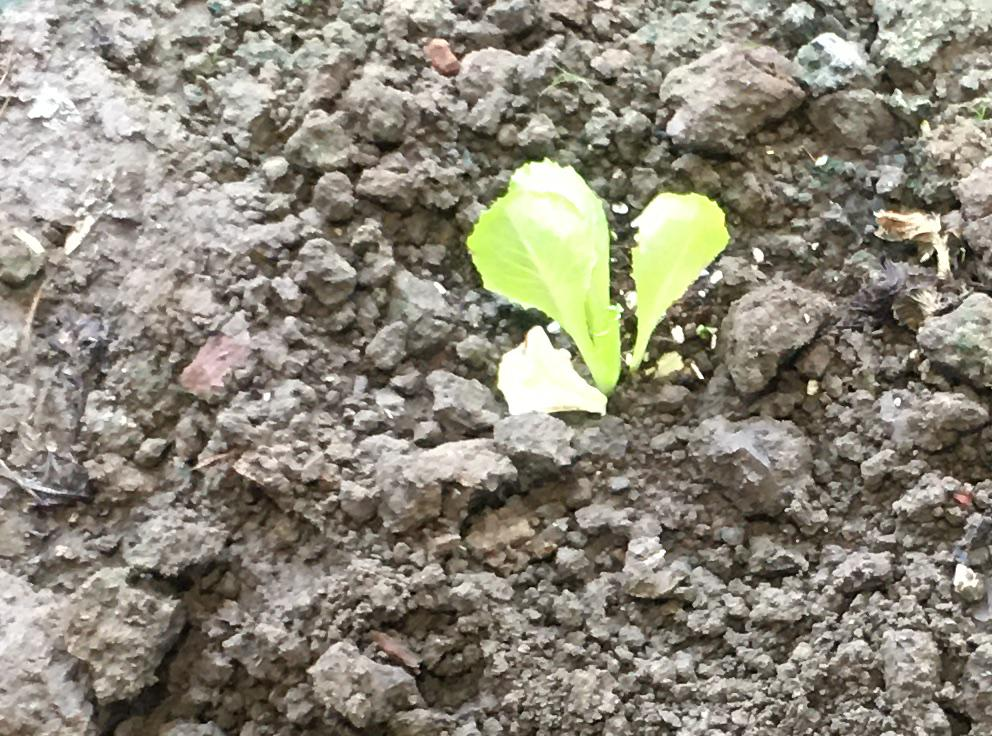block: (54, 572, 184, 707), (663, 39, 800, 162), (720, 275, 830, 400), (695, 413, 803, 520)
